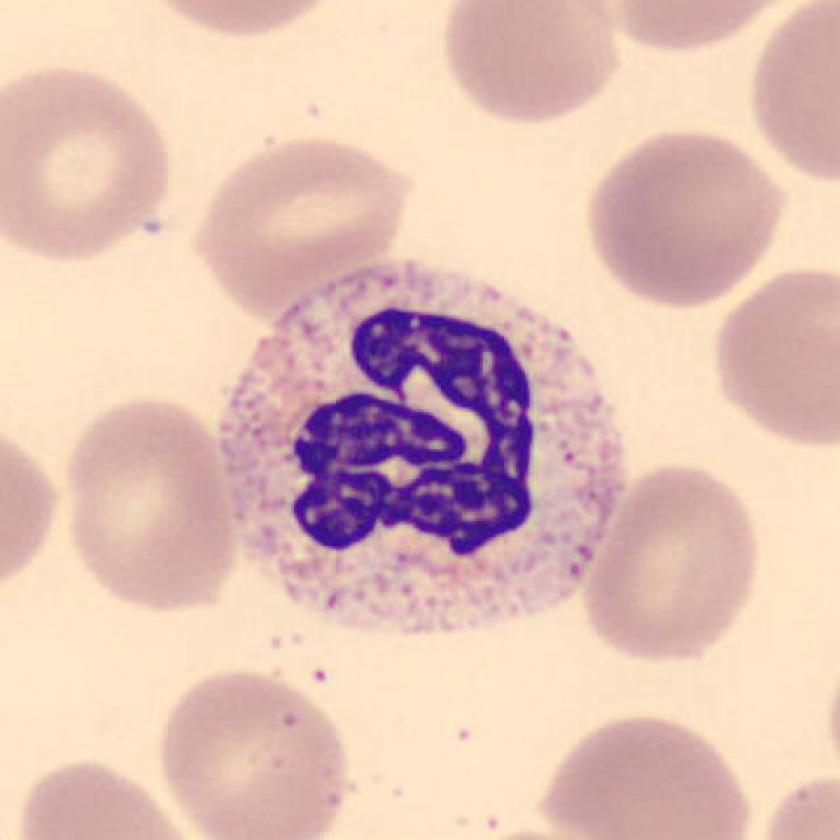neutrophil: (218, 257, 626, 648)
